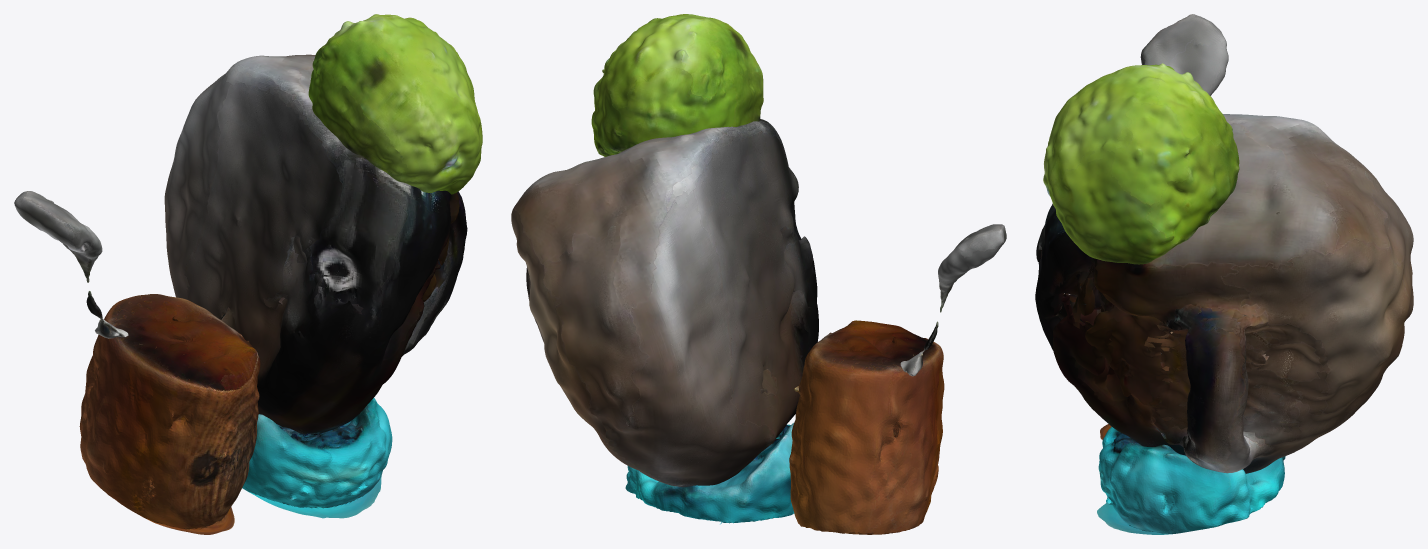
Rendered from gen3dsr_no_bg.glb.
3 renders of one model, left to right at view 1: azimuth 30°, elevation 25°; view 2: azimuth 150°, elevation 25°; view 3: azimuth 270°, elevation 25°, orthographic.
Visible parts, largest first — view 1: 0.obj, 3.obj, 4.obj, 2.obj, 1.obj; view 2: 0.obj, 3.obj, 4.obj, 2.obj, 1.obj; view 3: 0.obj, 4.obj, 2.obj, 1.obj.
Boxes of the visible parts, <box> form: 0.obj: <box>164,54,467,434</box>; 3.obj: <box>79,294,260,534</box>; 4.obj: <box>308,14,482,194</box>; 2.obj: <box>242,398,392,518</box>; 1.obj: <box>14,191,128,338</box>; 0.obj: <box>511,119,818,487</box>; 3.obj: <box>789,320,944,534</box>; 4.obj: <box>591,14,763,156</box>; 2.obj: <box>625,423,794,524</box>; 1.obj: <box>900,224,1006,376</box>; 0.obj: <box>1035,114,1413,473</box>; 4.obj: <box>1043,63,1239,264</box>; 2.obj: <box>1097,426,1285,534</box>; 1.obj: <box>1140,14,1228,95</box>.
Size of the model in its own units: 0.7914 by 0.7673 by 0.5555.
Materials: 5 (5 with a texture image).
